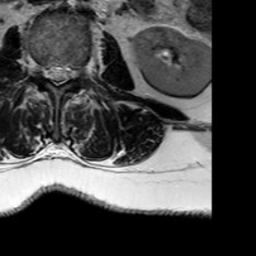CCS_stenosis: (54, 52, 63, 96)
LFS_normal: (73, 54, 83, 86)
LLS_normal: (63, 52, 73, 91)
RFS_normal: (35, 51, 45, 84)
RLS_normal: (45, 52, 54, 90)
